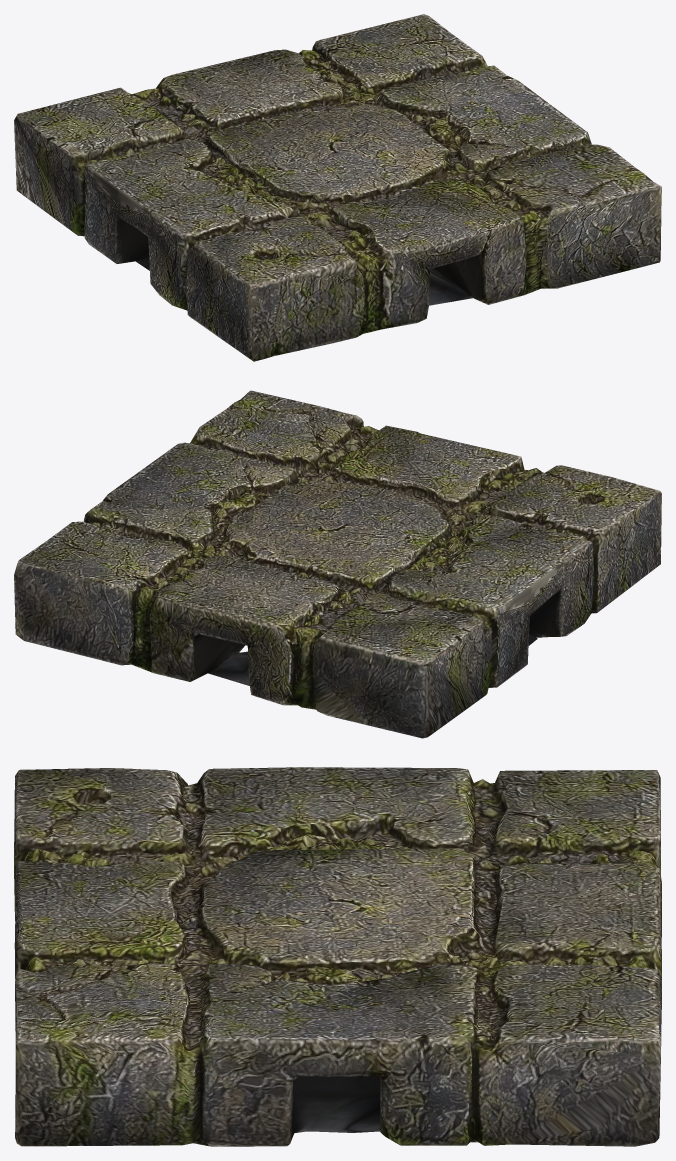
Rendered from tile_floor.glb.
The picture shows the model from 3 angles, top to bottom: view 1: azimuth 30°, elevation 25°; view 2: azimuth 150°, elevation 25°; view 3: azimuth 270°, elevation 25°; orthographic projection. The views are drawn at different scales.
Visible parts, largest first — view 1: model; view 2: model; view 3: model.
Boxes of the visible parts, x1,y1,x2,y2 form: model: (14, 14, 661, 361); model: (14, 390, 661, 738); model: (14, 767, 661, 1146).
Bounding box in the file's own units: 1.88 × 0.3492 × 1.87.
1 material, 1 textured.
